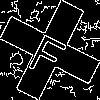F: (25, 25, 73, 79)
